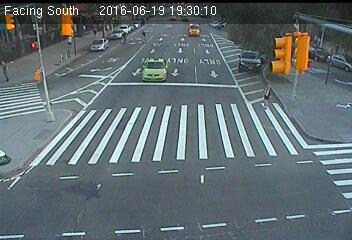neg: (300, 118, 327, 154), (32, 63, 57, 96), (195, 171, 218, 202), (262, 162, 285, 193), (25, 144, 47, 174), (91, 99, 113, 128), (137, 58, 157, 86), (84, 173, 104, 200), (234, 35, 254, 62), (142, 136, 161, 161), (204, 118, 222, 142), (277, 36, 294, 59), (168, 26, 185, 49), (202, 59, 219, 81), (91, 31, 107, 52)
pos: (258, 83, 279, 111)
